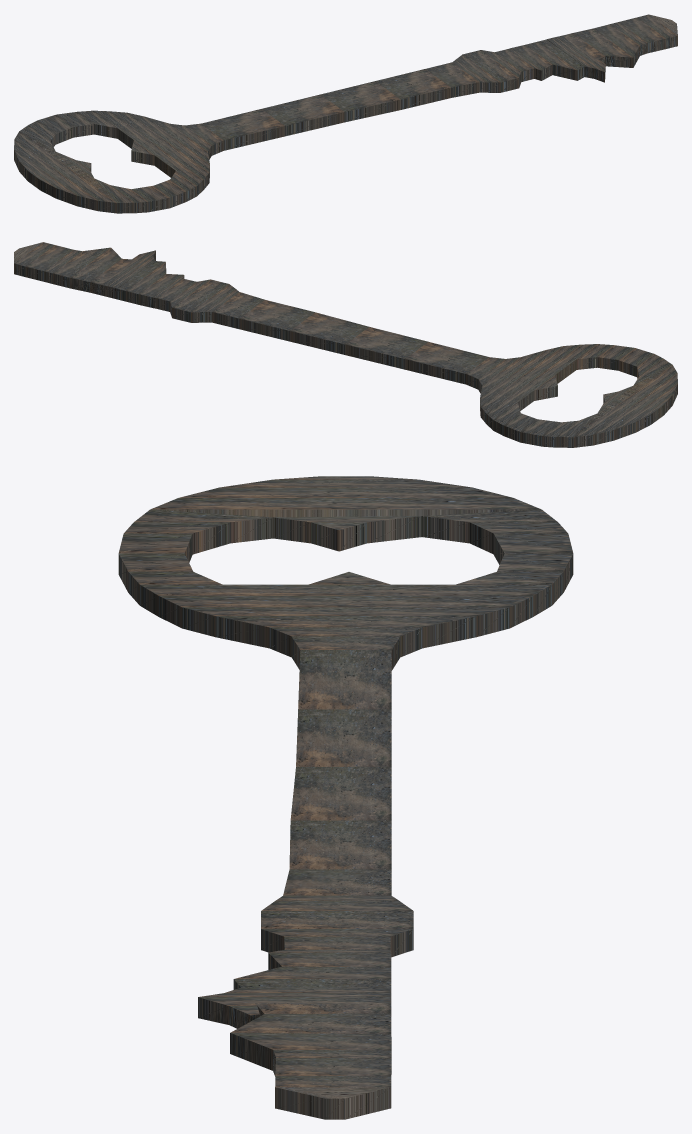
Rendered from Key.fbx.
The picture shows the model from 3 angles, top to bottom: view 1: azimuth 30°, elevation 25°; view 2: azimuth 150°, elevation 25°; view 3: azimuth 270°, elevation 25°; orthographic projection. The views are drawn at different scales.
Parts seen in each view (by area): view 1: pCube4; view 2: pCube4; view 3: pCube4.
Boxes of the visible parts, x1,y1,x2,y2 form: pCube4: [14, 14, 677, 213]; pCube4: [14, 242, 677, 447]; pCube4: [118, 476, 573, 1119].
Size of the model in its own units: 7.53 by 0.1531 by 2.33.
